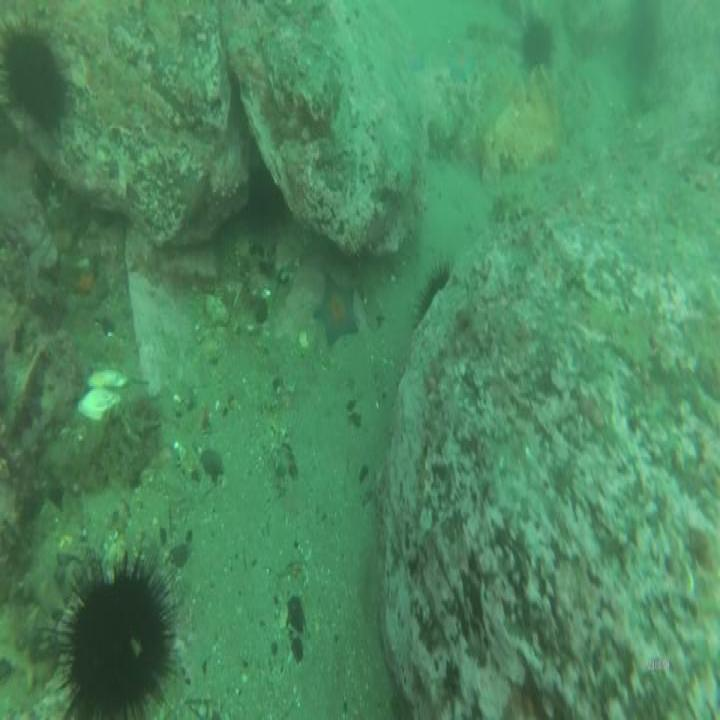echinus: (65, 558, 171, 718), (1, 18, 68, 151), (516, 11, 553, 76)
scallop: (81, 363, 129, 423)
starfish: (312, 263, 361, 349), (443, 41, 480, 89), (405, 41, 430, 78)
